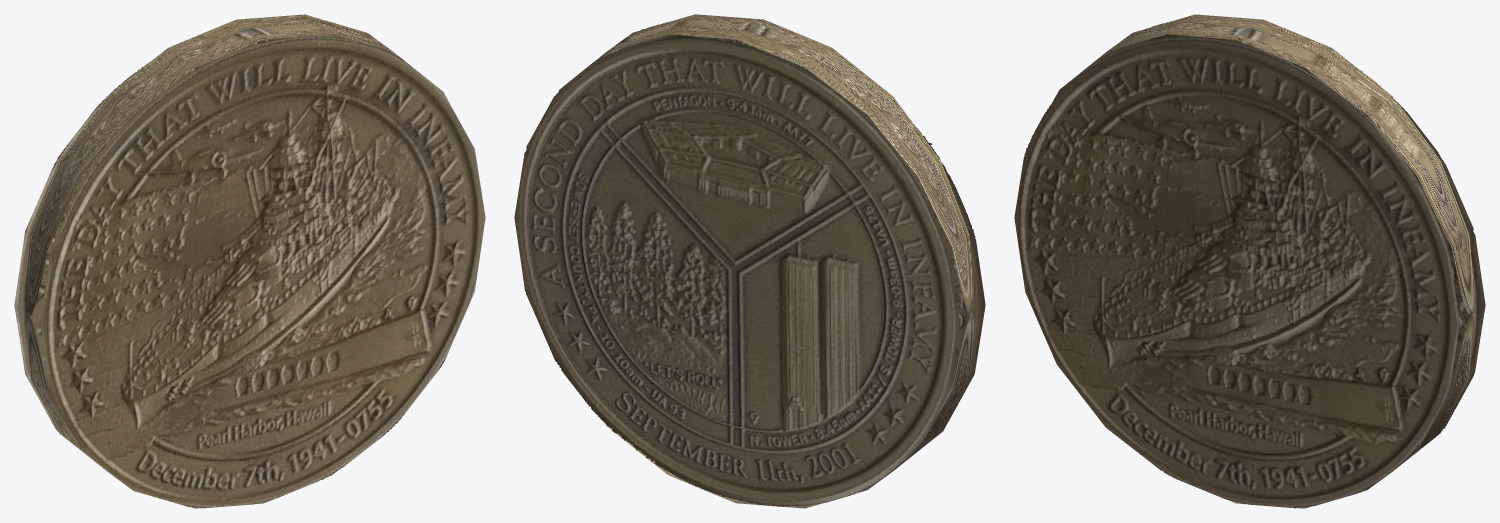
File: Coin_911.fbx
3 renders of one model, left to right at view 1: azimuth 30°, elevation 25°; view 2: azimuth 150°, elevation 25°; view 3: azimuth 330°, elevation 25°, orthographic.
Parts seen in each view (by area): view 1: Tails, Heads; view 2: Heads, Tails; view 3: Tails, Heads.
Part boxes in pixels (bbox=[...]): Tails: bbox=[17, 16, 485, 508]; Heads: bbox=[14, 14, 398, 485]; Heads: bbox=[514, 16, 982, 508]; Tails: bbox=[594, 14, 985, 506]; Tails: bbox=[1014, 16, 1482, 508]; Heads: bbox=[1051, 14, 1485, 484].
Bounding box in the file's own units: 100 × 100 × 11.
2 materials, 2 textured.
